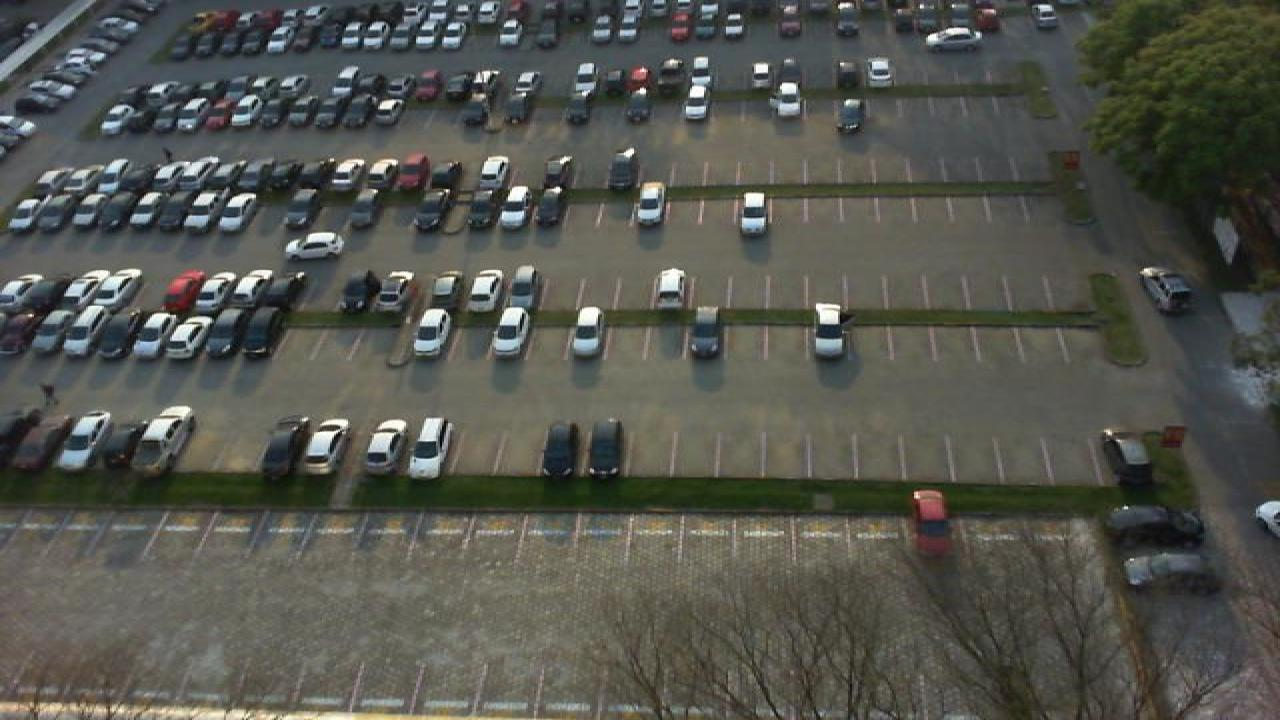Car: (132, 404, 198, 470), (1106, 505, 1204, 543), (54, 409, 112, 472), (12, 410, 70, 472), (1122, 552, 1220, 588), (1104, 428, 1156, 489), (260, 415, 310, 478), (912, 488, 954, 560), (300, 419, 354, 474), (410, 415, 456, 479), (34, 306, 88, 357), (364, 417, 410, 475), (1140, 265, 1194, 314), (124, 309, 174, 359), (488, 304, 532, 359), (90, 310, 138, 360), (90, 269, 144, 313), (586, 419, 626, 478), (246, 307, 290, 360), (540, 420, 580, 478), (810, 301, 850, 359), (164, 315, 214, 361), (52, 268, 106, 309), (568, 305, 608, 360), (410, 306, 450, 359), (208, 307, 250, 357), (686, 306, 724, 360), (160, 269, 204, 313), (338, 269, 380, 315), (630, 180, 670, 228), (0, 312, 42, 356), (374, 268, 416, 312), (410, 188, 452, 232), (142, 191, 186, 233), (278, 190, 324, 230), (108, 191, 152, 232), (284, 231, 344, 261), (178, 191, 220, 233), (198, 269, 242, 309), (652, 266, 690, 312), (736, 192, 774, 238), (606, 148, 644, 194), (216, 191, 258, 232), (6, 192, 48, 233), (40, 193, 82, 233), (504, 264, 540, 310), (496, 186, 532, 232), (426, 270, 464, 313), (344, 186, 382, 229), (242, 272, 282, 312), (76, 192, 116, 232), (464, 268, 500, 312), (460, 187, 496, 231), (532, 184, 566, 229), (184, 154, 224, 191), (924, 27, 982, 52), (476, 156, 514, 194), (256, 156, 296, 192), (150, 156, 190, 192), (396, 153, 432, 192), (542, 154, 578, 192), (92, 156, 130, 192), (430, 158, 468, 192), (328, 156, 366, 190), (292, 156, 330, 190), (222, 158, 260, 192), (494, 91, 528, 128), (364, 156, 398, 192), (310, 97, 348, 129), (772, 81, 804, 118), (680, 84, 712, 121), (252, 96, 286, 130), (342, 98, 378, 129), (66, 163, 100, 195), (836, 98, 868, 132), (442, 68, 476, 100), (624, 91, 654, 127), (560, 90, 590, 125), (38, 162, 70, 194), (282, 96, 314, 128), (226, 98, 258, 130), (202, 98, 234, 130), (146, 102, 178, 134), (98, 103, 130, 135), (476, 66, 508, 98), (374, 97, 408, 127), (184, 76, 218, 106), (122, 103, 154, 134), (570, 61, 600, 94), (378, 72, 412, 101), (274, 76, 310, 103), (244, 76, 280, 103), (174, 100, 204, 132), (864, 57, 894, 89), (596, 67, 626, 99), (338, 65, 368, 97), (154, 80, 188, 108), (126, 81, 158, 110), (626, 65, 654, 98), (684, 56, 714, 86), (512, 70, 542, 100), (414, 70, 444, 100), (746, 60, 774, 91), (654, 64, 682, 95), (218, 77, 250, 102), (834, 60, 860, 90), (776, 56, 800, 88)
